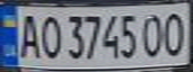3: (63, 11, 84, 61)
4: (100, 11, 121, 60)
5: (118, 11, 142, 60)
7: (81, 11, 103, 61)
A: (15, 11, 42, 60)
O: (160, 8, 190, 57), (139, 11, 169, 58), (36, 11, 63, 61)
